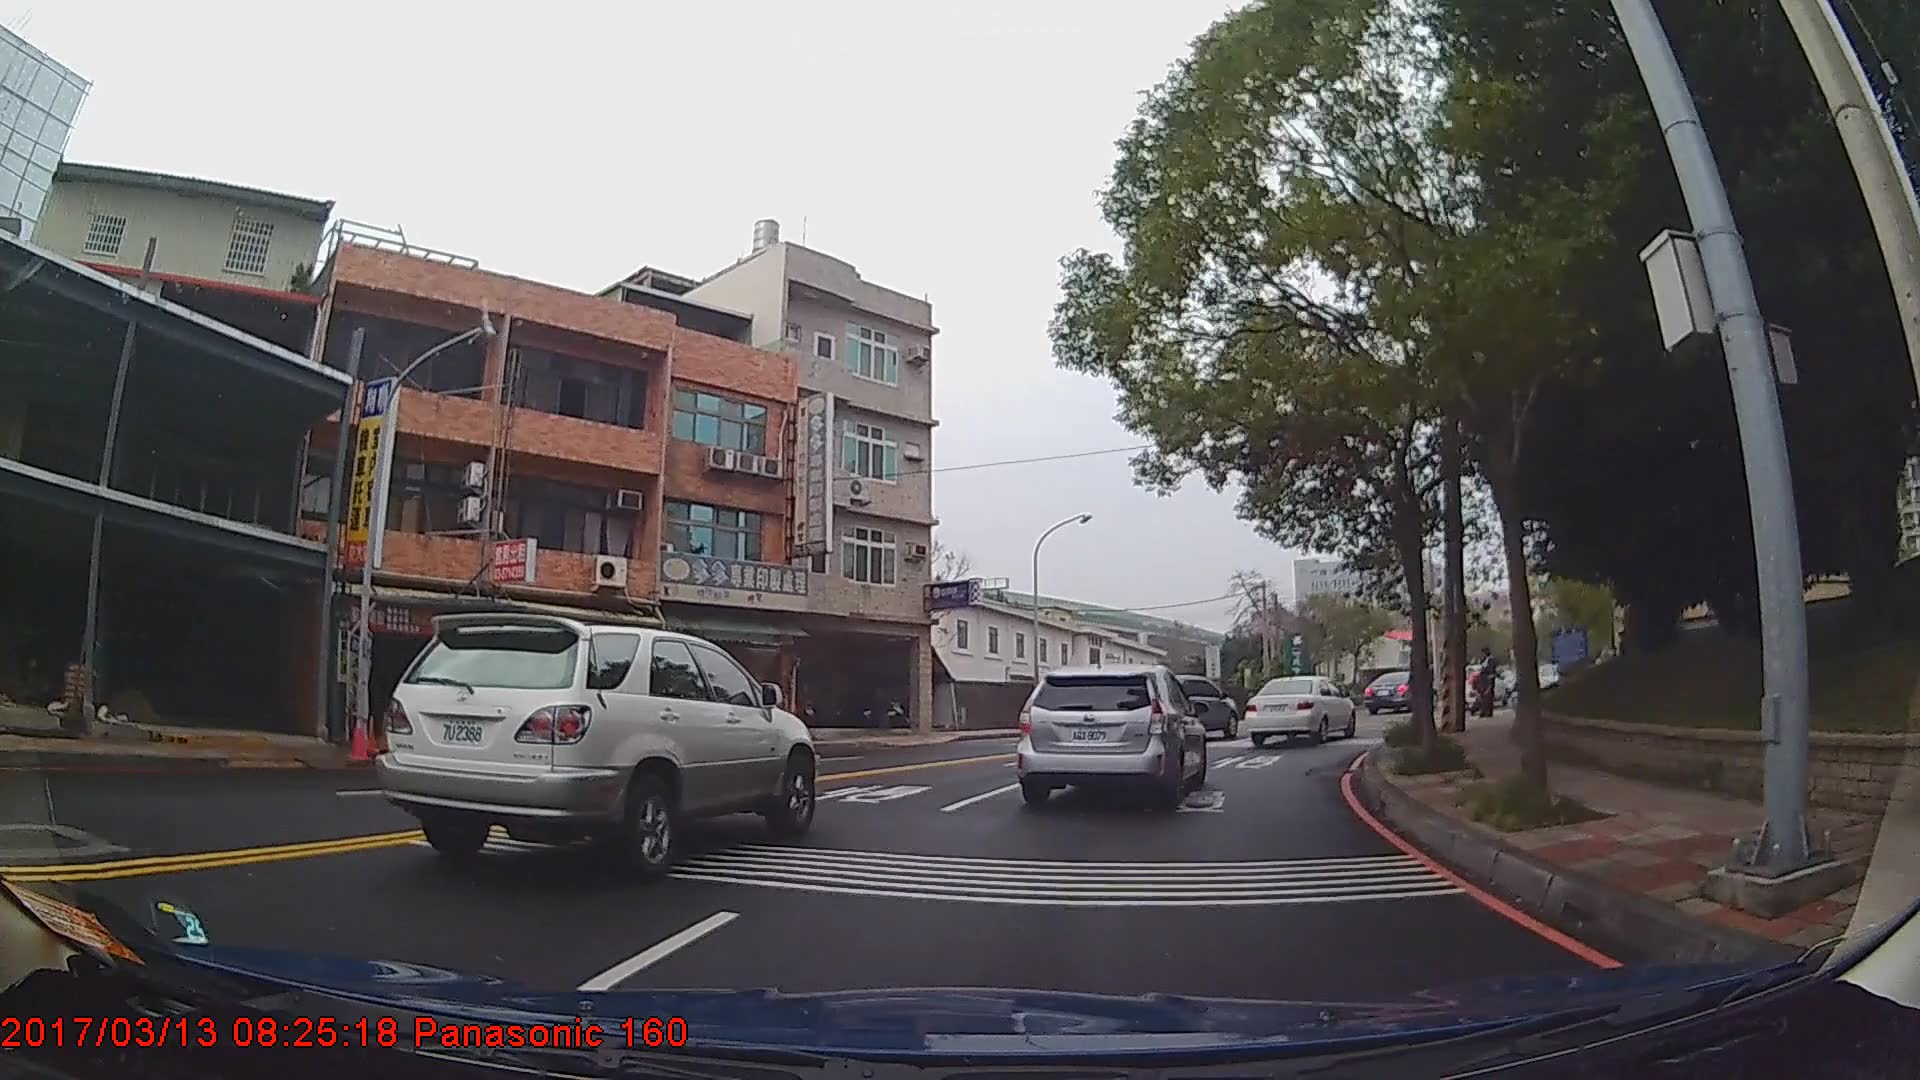vehicle: (371, 612, 819, 885), (1013, 662, 1207, 814), (1242, 673, 1358, 744), (1145, 674, 1238, 740), (1364, 669, 1433, 716)
